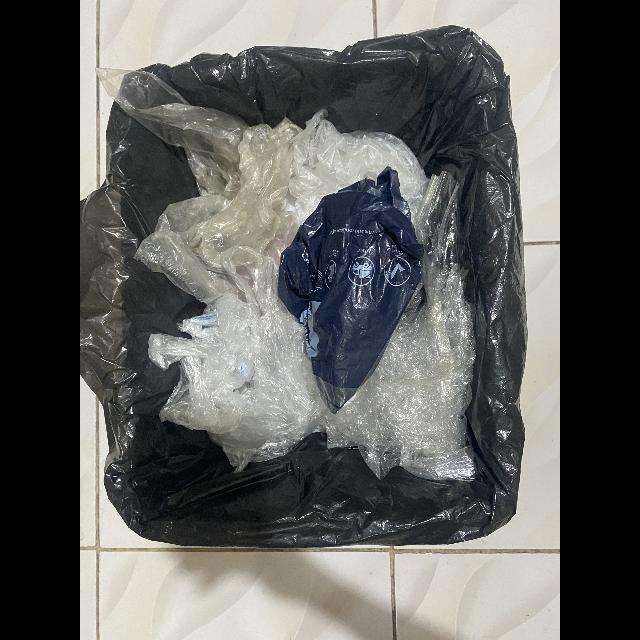plastic_bag: (97, 68, 478, 482), (278, 167, 428, 413)
